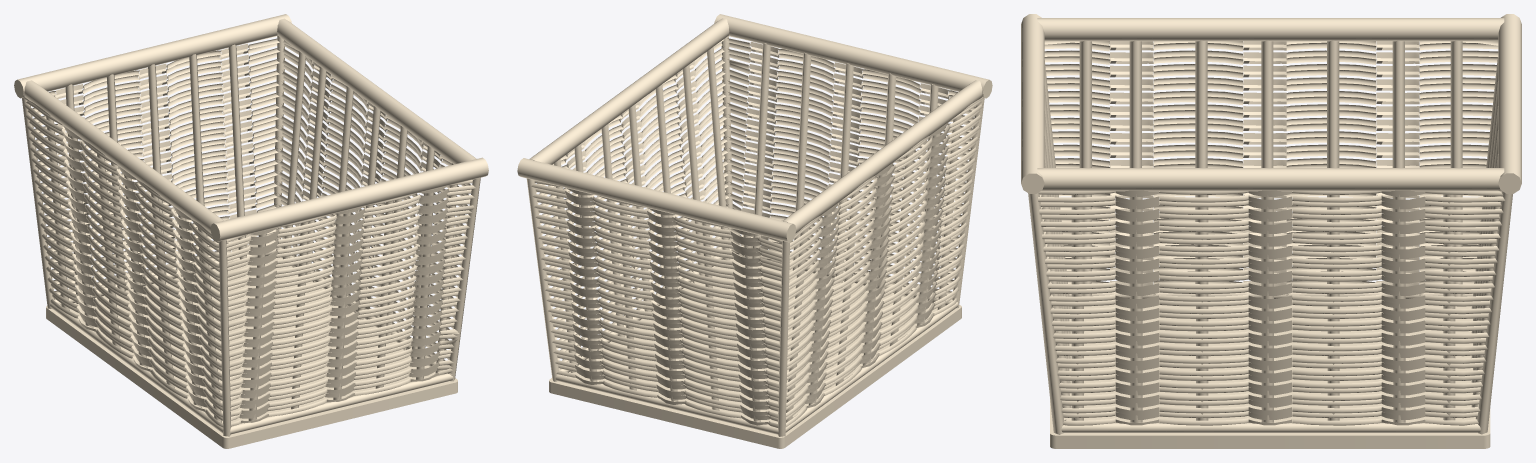
The model's file is basket.fbx.
3 renders of one model, left to right at view 1: azimuth 30°, elevation 25°; view 2: azimuth 150°, elevation 25°; view 3: azimuth 270°, elevation 25°, orthographic. The views are drawn at different scales.
Parts seen in each view (by area): view 1: Cilindro17; view 2: Cilindro17; view 3: Cilindro17.
Boxes of the visible parts, x1,y1,x2,y2 form: Cilindro17: (14, 14, 488, 448); Cilindro17: (517, 14, 992, 448); Cilindro17: (1021, 14, 1521, 448).
Bounding box in the file's own units: 7537 × 6289 × 10000.
